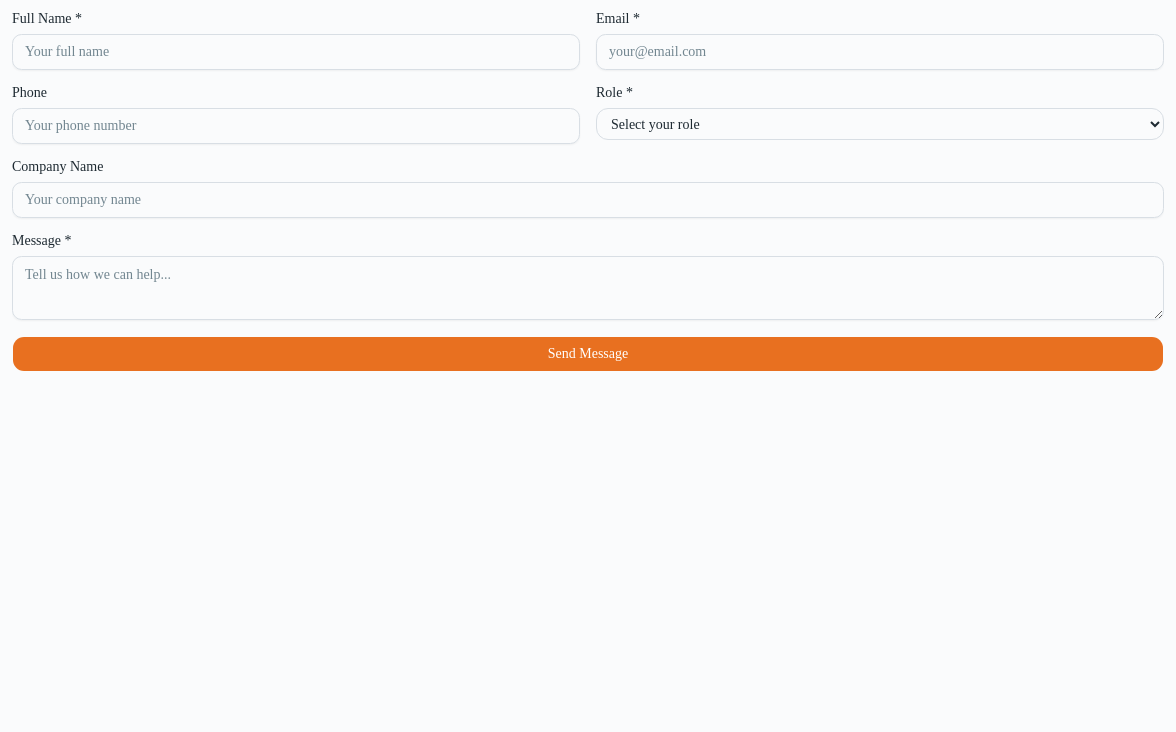
Test case: ContactForm › shows error message after failed submission
Step 1. Type "Test User" into the field labelled "Full Name *" → (296, 52), box [12,34,580,70]
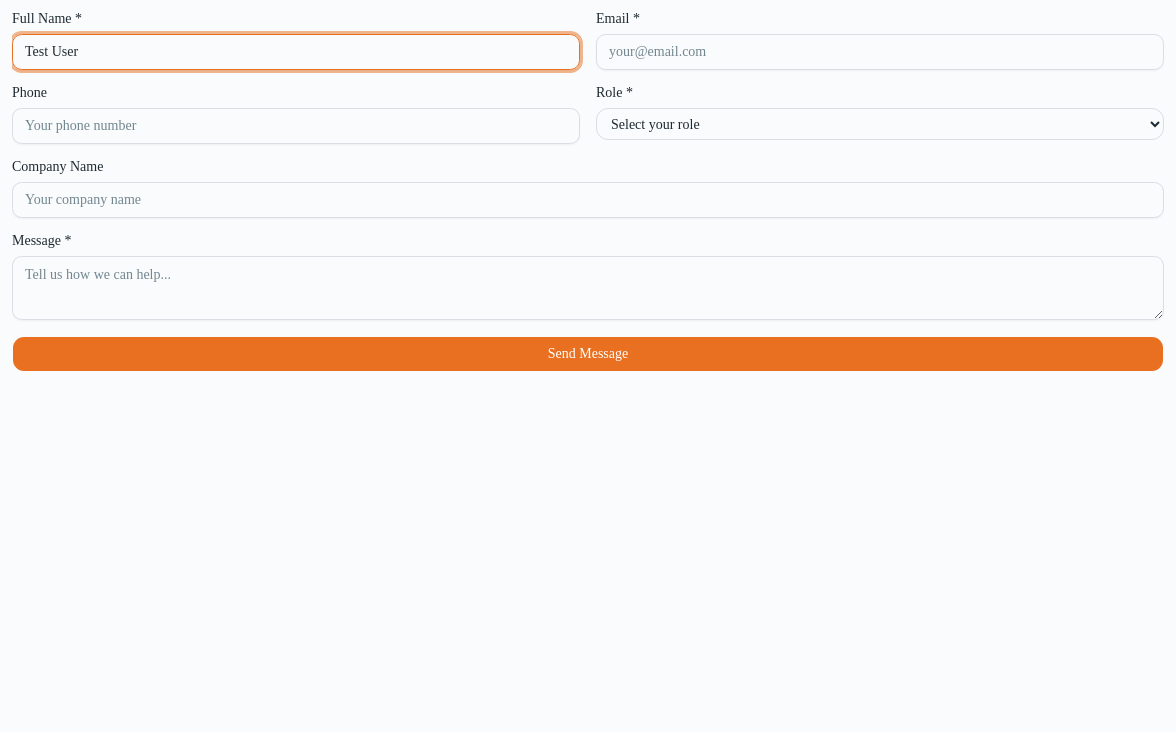
Step 2. Type "test@example.com" into the field labelled "Email *" → (880, 52), box [596,34,1164,70]
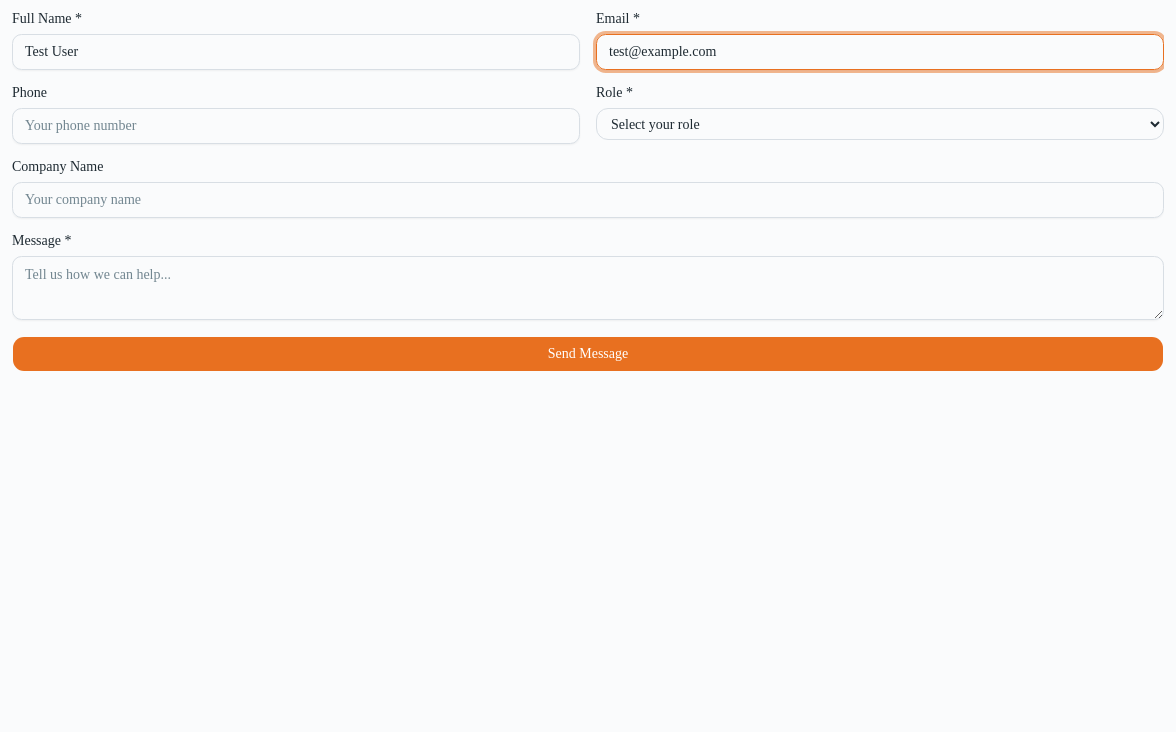
Step 3. Select "Inspector" in the dropdown labelled "Role *" → (880, 124), box [596,108,1164,140]
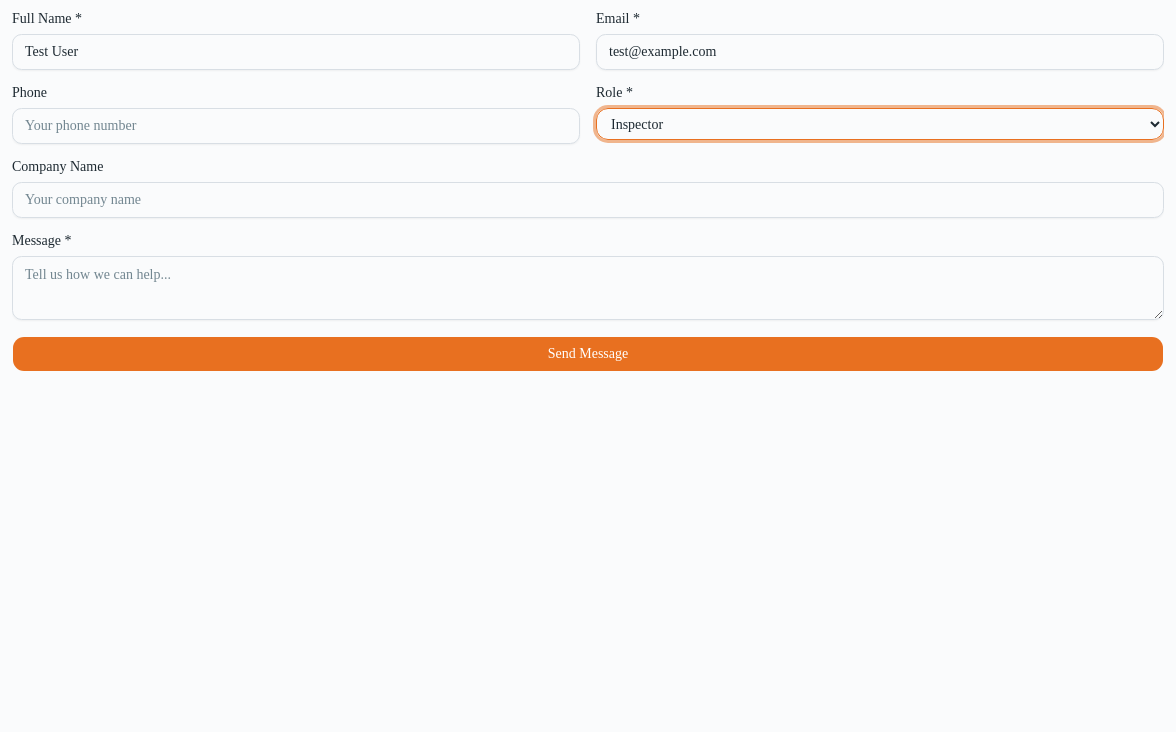
Step 4. Type "Hello" into the text box labelled "Message *" → (588, 288), box [12,256,1164,320]
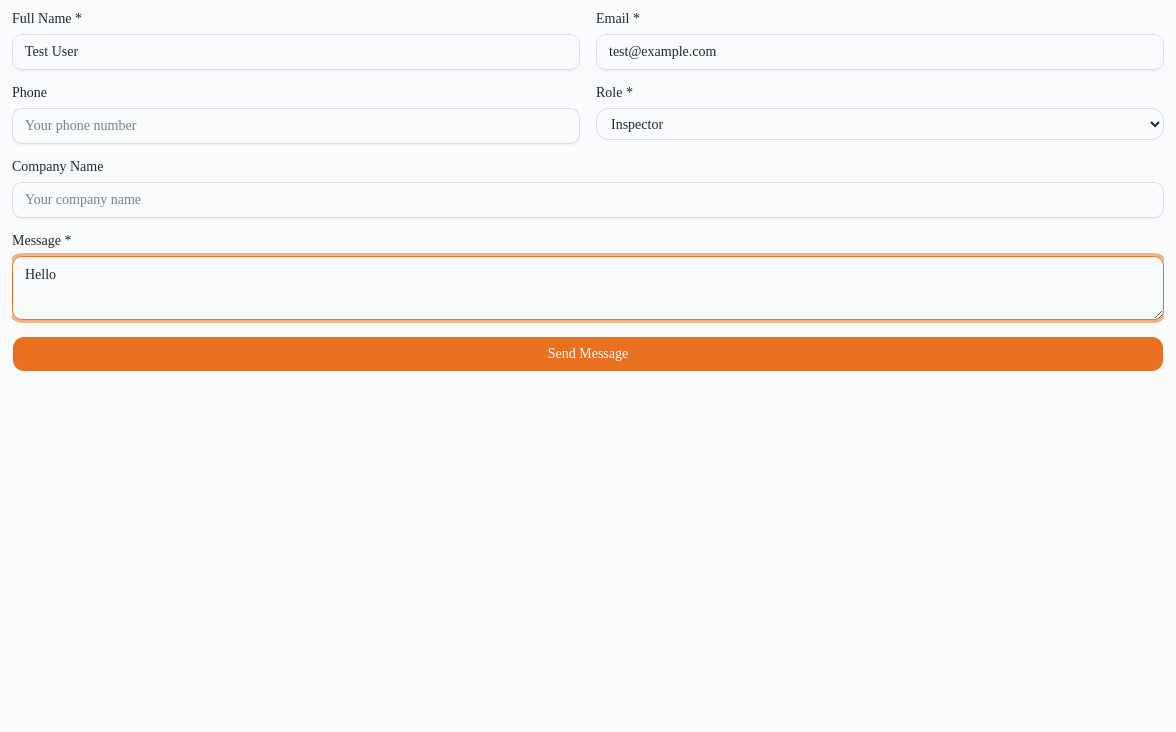
Step 5. Click the button "Send Message" → click(588, 354), box [12,336,1164,372]
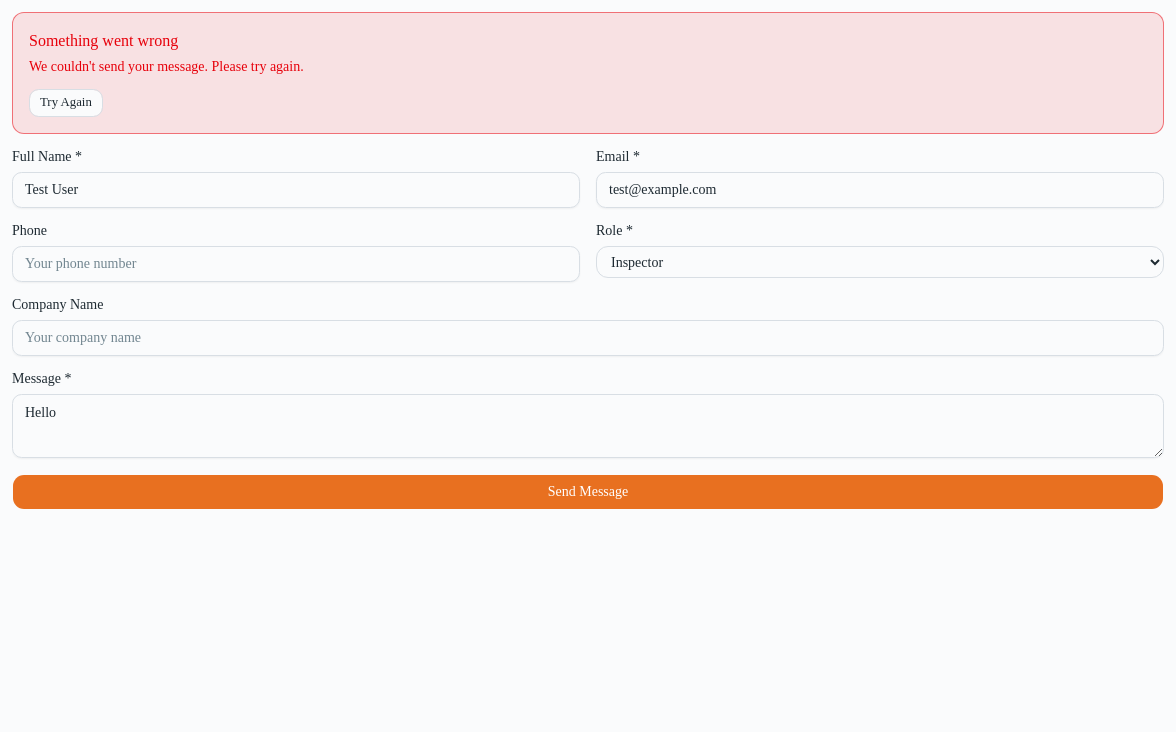
expect the text "Something went wrong" is shown: met, box [29,32,178,49]
